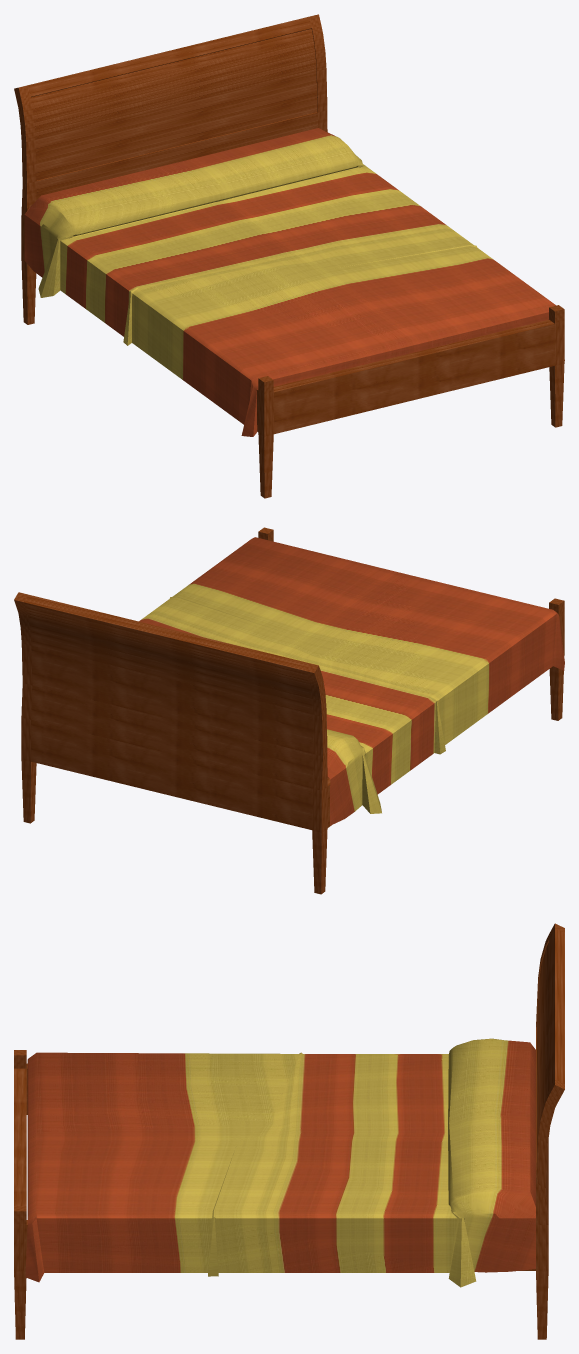
File: bed.obj
The picture shows the model from 3 angles, top to bottom: view 1: azimuth 30°, elevation 25°; view 2: azimuth 150°, elevation 25°; view 3: azimuth 270°, elevation 25°; orthographic projection. The views are drawn at different scales.
Parts seen in each view (by area): view 1: bed_Plane; view 2: bed_Plane; view 3: bed_Plane.
Part boxes in pixels (x1,y1,x2,y2): bed_Plane: (14, 14, 564, 498); bed_Plane: (14, 527, 564, 894); bed_Plane: (14, 923, 564, 1339).
Size of the model in its own units: 1.7 by 1.11 by 2.16.
